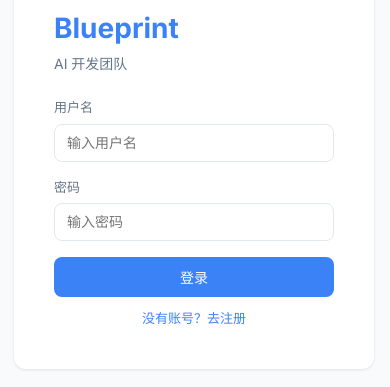
LoginPage › 点击切换到注册模式
Click the text with class "toggle" at (194, 318), box [142, 310, 246, 326]
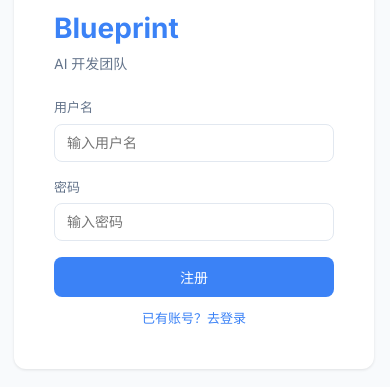
Expected: the submit button reads "注册", [54, 257, 334, 297]
